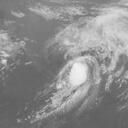cyclone: (68, 62, 90, 87)
